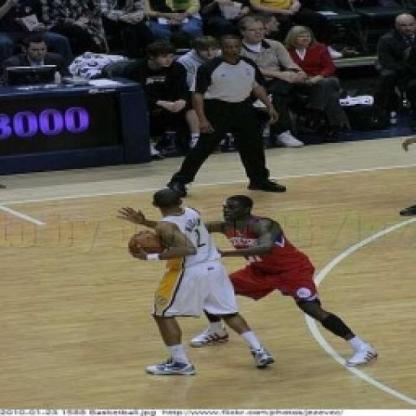basketball: (126, 227, 165, 263)
